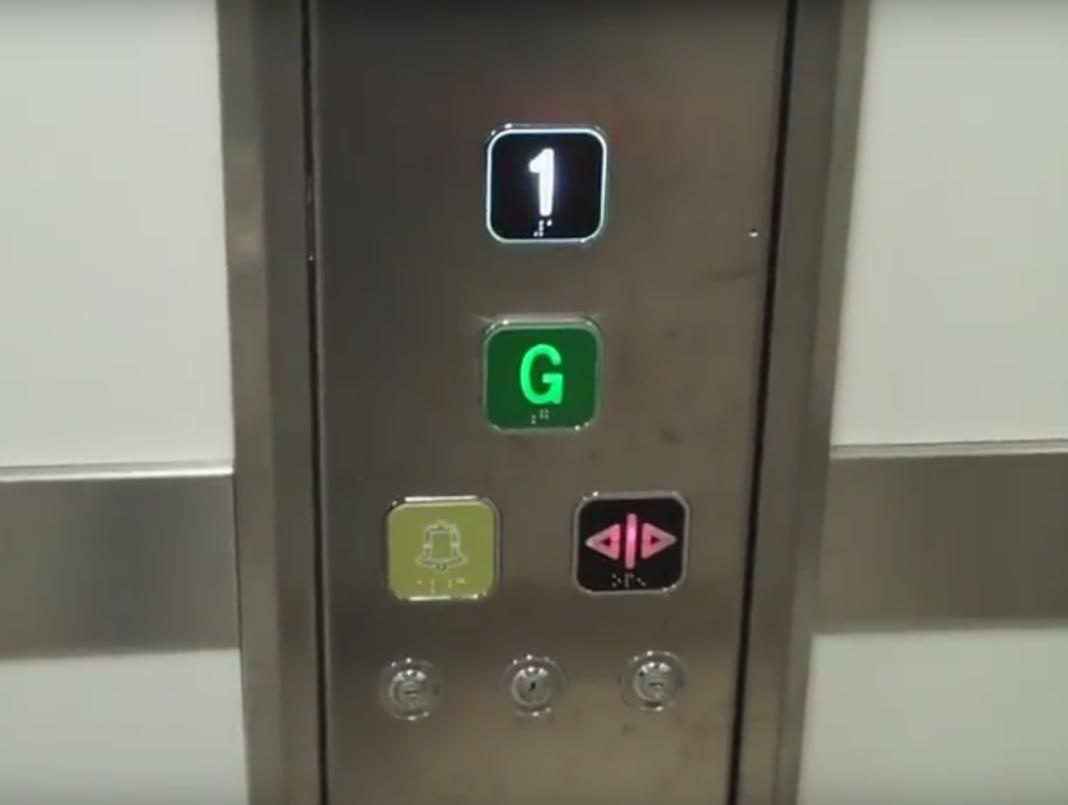1: (483, 121, 609, 246)
G: (475, 312, 608, 442)
alarm: (380, 491, 504, 607)
keyhole: (376, 657, 445, 724), (497, 653, 566, 720), (617, 649, 686, 716)
open: (569, 487, 693, 603)
